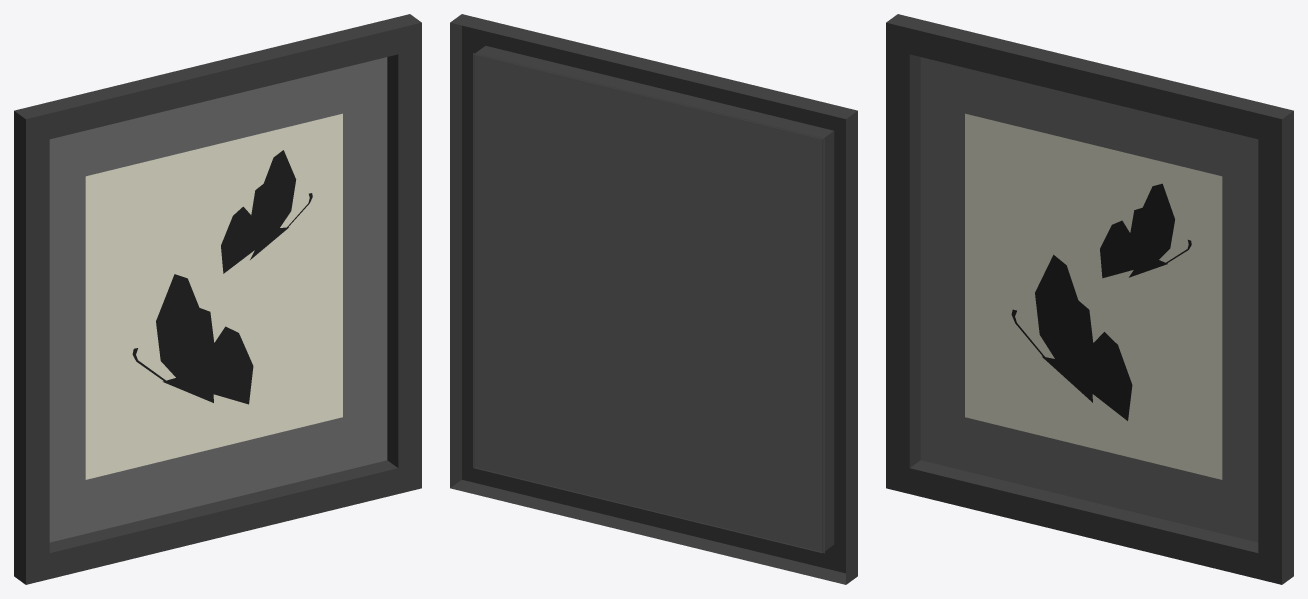
File: Photo_Frame_M_01.fbx
The picture shows the model from 3 angles, left to right: view 1: azimuth 30°, elevation 25°; view 2: azimuth 150°, elevation 25°; view 3: azimuth 330°, elevation 25°; orthographic projection.
Parts seen in each view (by area): view 1: Photo_Frame_M_01; view 2: Photo_Frame_M_01; view 3: Photo_Frame_M_01.
Part boxes in pixels (bbox=[...]): Photo_Frame_M_01: bbox=[14, 14, 421, 584]; Photo_Frame_M_01: bbox=[450, 14, 857, 584]; Photo_Frame_M_01: bbox=[886, 14, 1293, 584].
Bounding box in the file's own units: 34.73 × 39.03 × 1.79.
Materials: 1 (1 with a texture image).
